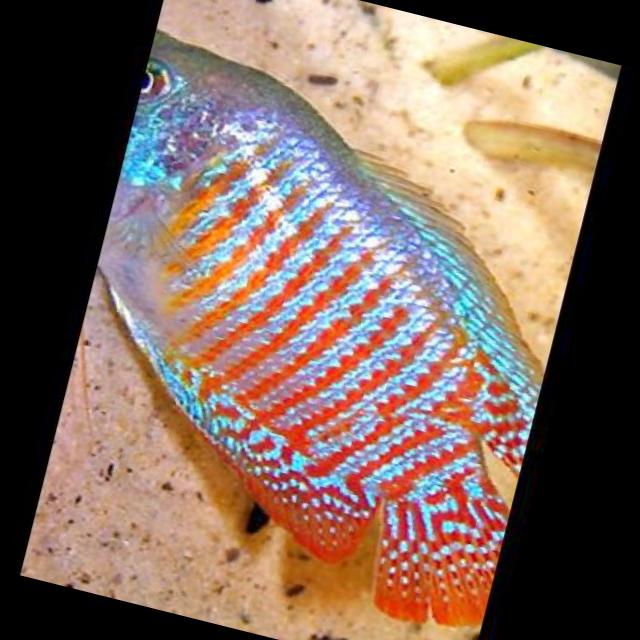Gourami: (32, 26, 604, 640)
